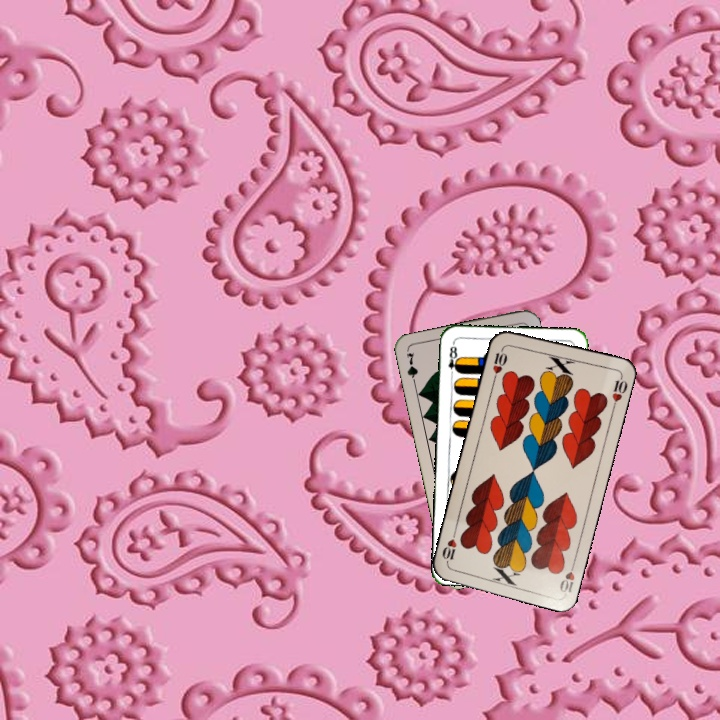E8: (444, 339, 462, 380)
G7: (402, 348, 421, 389)
H10: (555, 556, 578, 596), (488, 343, 510, 382)
